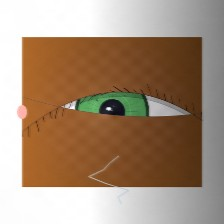foreign_body_visible: (123, 116, 139, 129)
